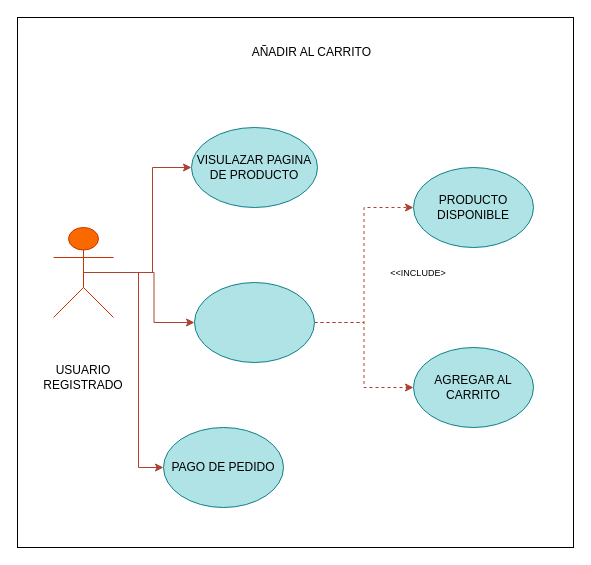
This 591x565 diagram has some shape labels left out. Here are the shapes that lost their labels. From the top down, the box of each, then its label:
(52, 226, 114, 318): Actor
(194, 282, 314, 362): SELECCIONAR PRODUCTOS
